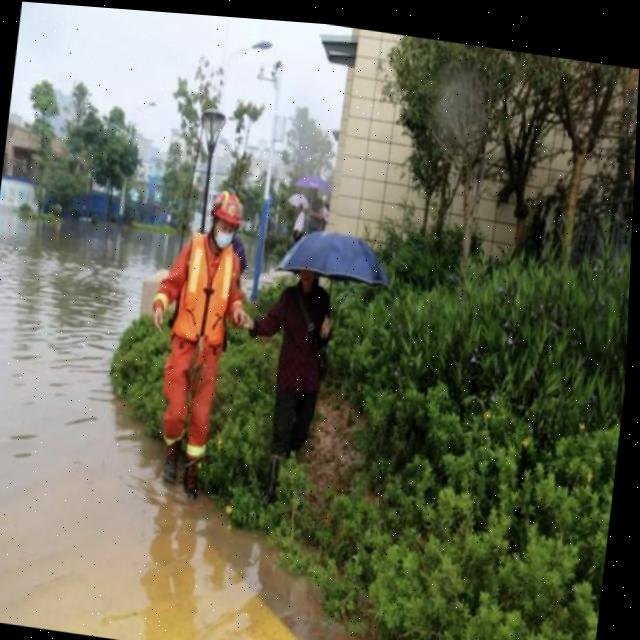civilian: (225, 229, 346, 531), (299, 187, 326, 234), (288, 196, 307, 244), (319, 193, 333, 226)
rescuer: (125, 173, 265, 522)
